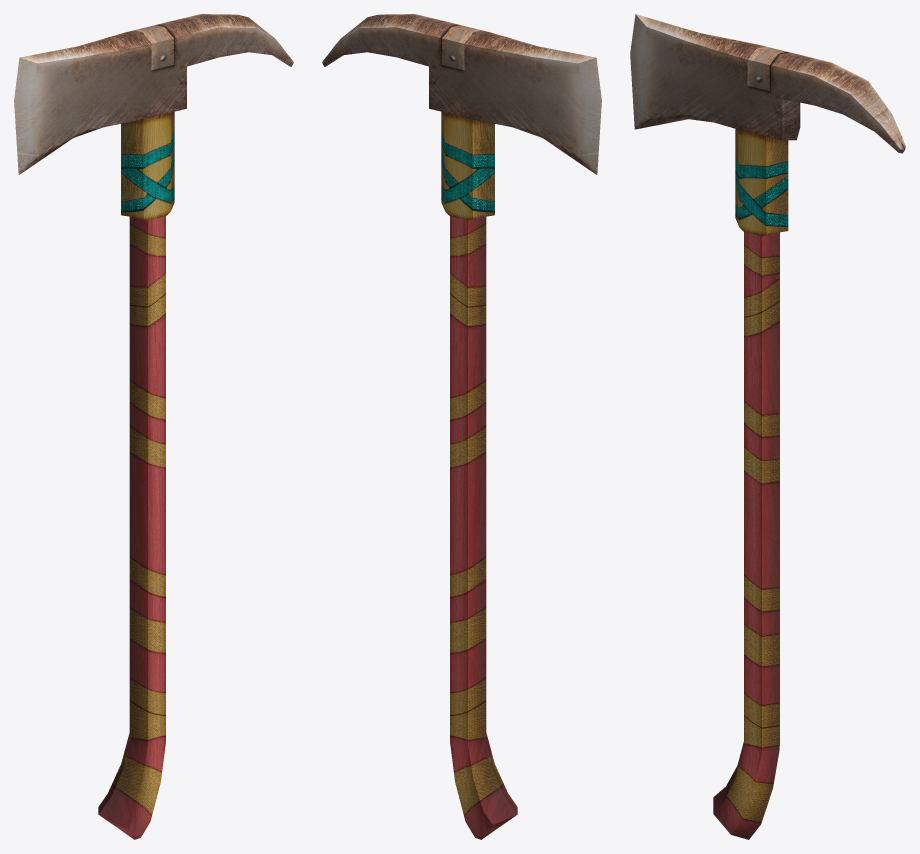
Rendered from Normal_Axe.fbx.
3 views of the same model, side by side, from view 1: azimuth 30°, elevation 25°; view 2: azimuth 150°, elevation 25°; view 3: azimuth 330°, elevation 25° (orthographic).
Visible parts, largest first — view 1: axe; view 2: axe; view 3: axe.
Boxes of the visible parts, x1,y1,x2,y2 form: axe: (14, 14, 293, 839); axe: (322, 14, 601, 839); axe: (630, 14, 905, 839).
Size of the model in its own units: 0.0284 by 0.0787 by 0.00433.
